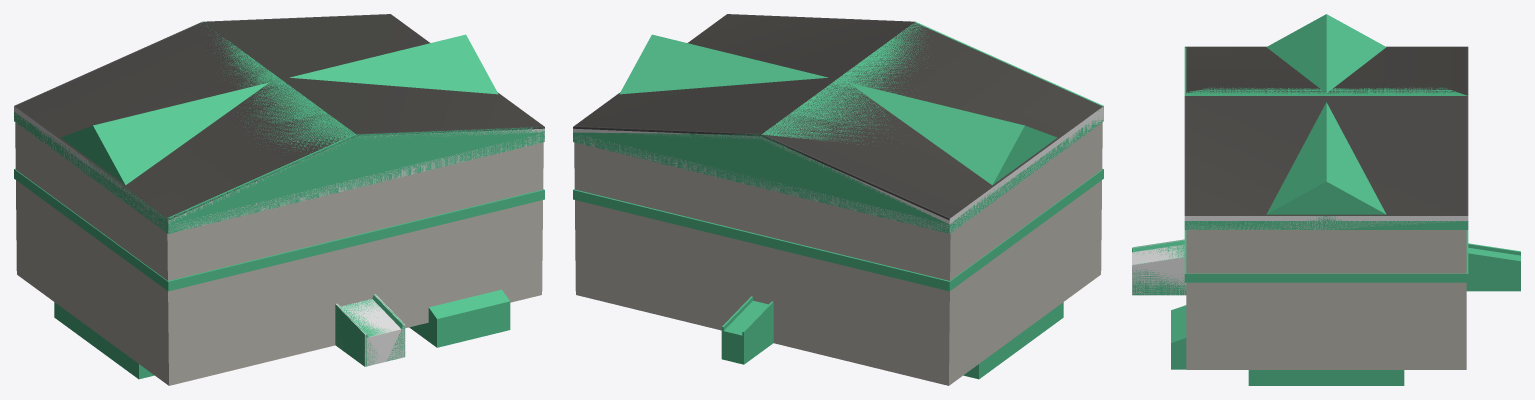
File: eca_bld_town.dae
3 views of the same model, side by side, from view 1: azimuth 30°, elevation 25°; view 2: azimuth 150°, elevation 25°; view 3: azimuth 270°, elevation 25° (orthographic). The views are drawn at different scales.
Visible parts, largest first — view 1: ind_bld_a30, Colmesh-1, ind_bld_a450; view 2: ind_bld_a30, Colmesh-1, ind_bld_a450; view 3: ind_bld_a30, Colmesh-1, ind_bld_a450.
Part boxes in pixels (x1,y1,x2,y2): ind_bld_a30: (15,14,543,385); Colmesh-1: (14,22,544,379); ind_bld_a450: (14,14,544,366); ind_bld_a30: (574,14,1102,385); Colmesh-1: (573,21,1103,379); ind_bld_a450: (573,14,1103,233); ind_bld_a30: (1186,46,1466,369); Colmesh-1: (1132,14,1520,385); ind_bld_a450: (1132,46,1468,295).
Bounding box in the file's own units: 20.6 × 20 × 11.8.
